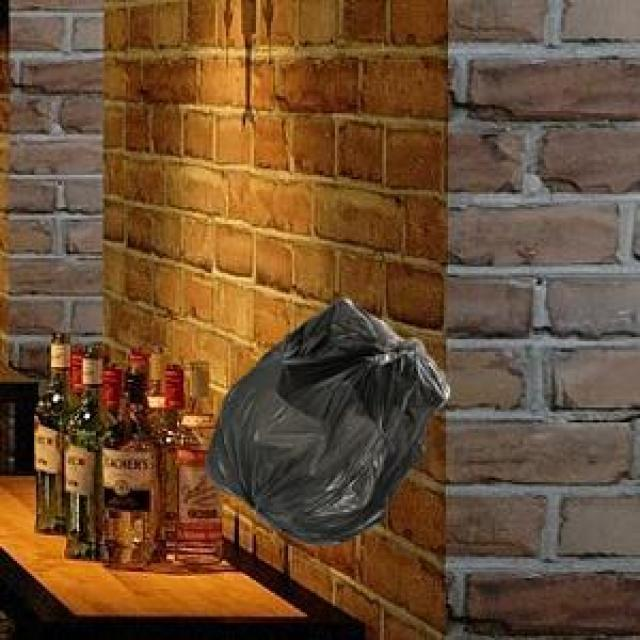Vinyl: (208, 299, 449, 544)
